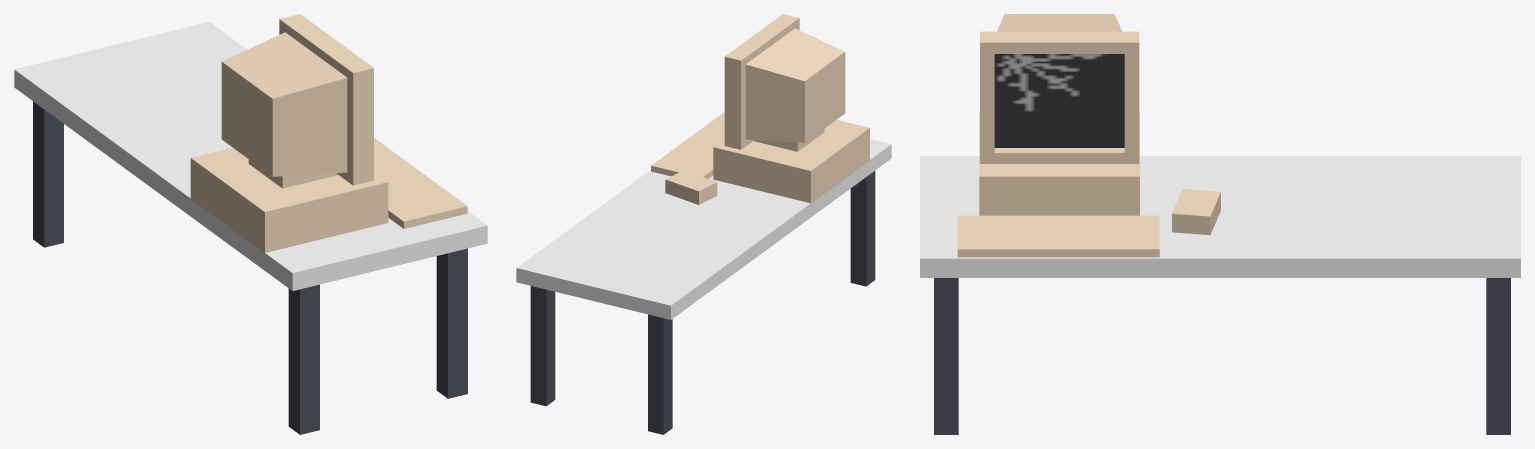
Rendered from OldDesk.glb.
The picture shows the model from 3 angles, left to right: view 1: azimuth 30°, elevation 25°; view 2: azimuth 150°, elevation 25°; view 3: azimuth 270°, elevation 25°; orthographic projection. The views are drawn at different scales.
Visible parts, largest first — view 1: Cube; view 2: Cube; view 3: Cube.
Part boxes in pixels (left/top/right/bottom): Cube: left=14, top=14, right=487, bottom=434; Cube: left=516, top=14, right=891, bottom=434; Cube: left=920, top=14, right=1520, bottom=434.
Size of the model in its own units: 0.5421 by 0.8706 by 1.34.
Materials: 1 (1 with a texture image).
